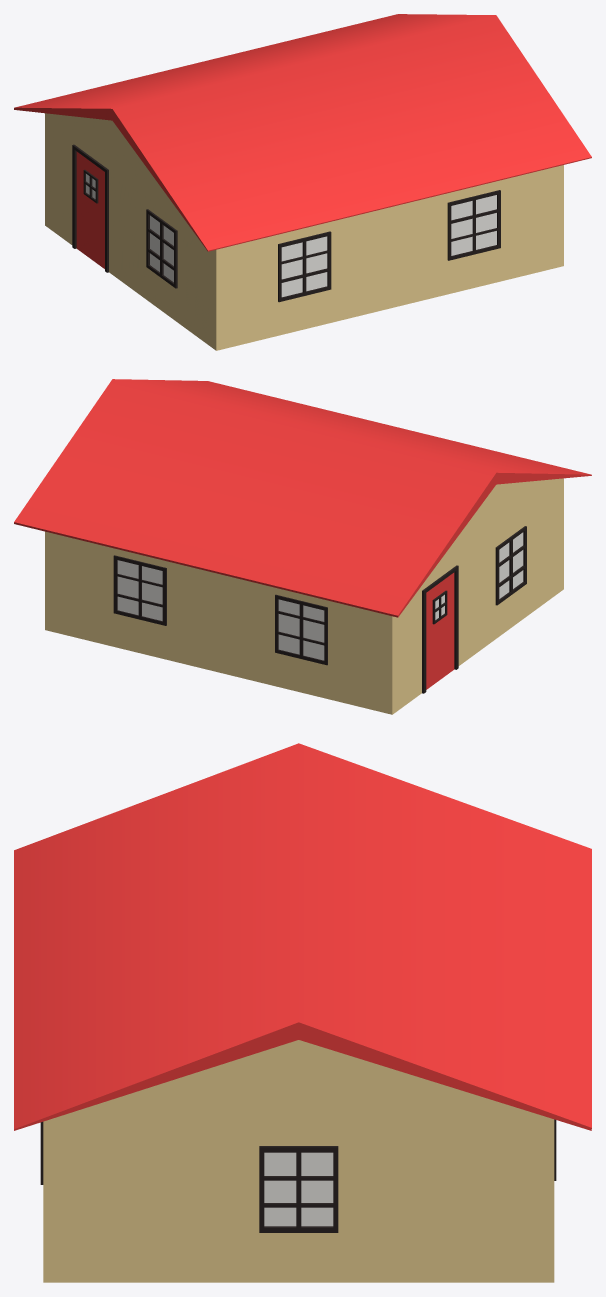
Rendered from House 01 R.FBX.
3 views of the same model, one above another, from view 1: azimuth 30°, elevation 25°; view 2: azimuth 150°, elevation 25°; view 3: azimuth 270°, elevation 25° (orthographic). The views are drawn at different scales.
Visible parts, largest first — view 1: Box001; view 2: Box001; view 3: Box001.
Boxes of the visible parts, box(x1,y1,x2,y2) form: Box001: box(14, 14, 591, 350); Box001: box(14, 379, 591, 714); Box001: box(14, 743, 591, 1282).
Bounding box in the file's own units: 17.37 × 7.94 × 15.21.
